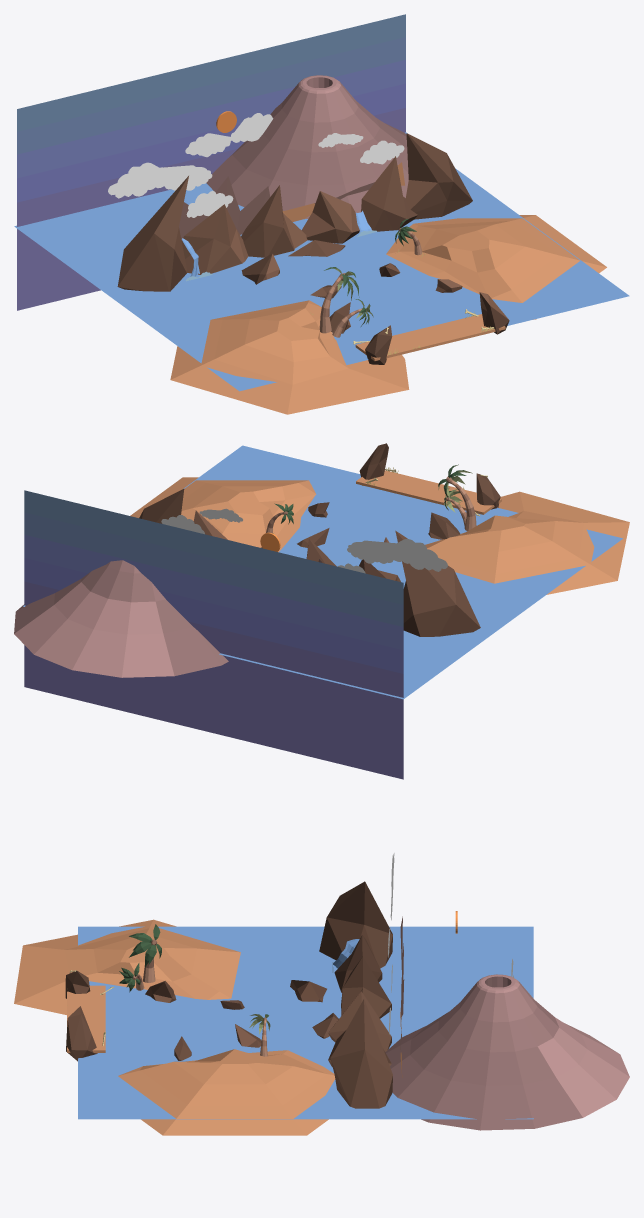
The picture shows the model from 3 angles, top to bottom: view 1: azimuth 30°, elevation 25°; view 2: azimuth 150°, elevation 25°; view 3: azimuth 270°, elevation 25°; orthographic projection. The views are drawn at different scales.
Parts seen in each view (by area): view 1: sky, base, land, mountains, volcano, clouds, front_area, mountains2D, palms, background_rocks, barrier_rock, barrier_rock_2; view 2: sky, base, land, volcano, mountains, clouds, front_area, palms, background_rocks, barrier_rock, barrier_rock_2; view 3: base, land, volcano, mountains, palms, front_area, background_rocks, barrier_rock.
Part boxes in pixels (x1=…): sky: x1=17, y1=14, x2=405, y2=310; base: x1=14, y1=132, x2=629, y2=391; land: x1=170, y1=215, x2=606, y2=414; mountains: x1=117, y1=133, x2=472, y2=291; volcano: x1=206, y1=75, x2=408, y2=219; clouds: x1=108, y1=113, x2=404, y2=281; front_area: x1=355, y1=314, x2=505, y2=360; mountains2D: x1=179, y1=162, x2=404, y2=240; palms: x1=319, y1=218, x2=422, y2=337; background_rocks: x1=310, y1=263, x2=462, y2=333; barrier_rock: x1=479, y1=292, x2=509, y2=334; barrier_rock_2: x1=365, y1=325, x2=392, y2=364; sky: x1=24, y1=490, x2=403, y2=779; base: x1=23, y1=445, x2=622, y2=699; land: x1=130, y1=477, x2=629, y2=594; volcano: x1=14, y1=560, x2=228, y2=677; mountains: x1=139, y1=489, x2=480, y2=636; clouds: x1=161, y1=508, x2=447, y2=573; front_area: x1=356, y1=470, x2=501, y2=514; palms: x1=266, y1=464, x2=476, y2=533; background_rocks: x1=297, y1=502, x2=460, y2=547; barrier_rock: x1=359, y1=443, x2=388, y2=479; barrier_rock_2: x1=476, y1=473, x2=500, y2=509; base: x1=78, y1=926, x2=533, y2=1119; land: x1=14, y1=919, x2=335, y2=1135; volcano: x1=385, y1=974, x2=629, y2=1130; mountains: x1=290, y1=881, x2=392, y2=1108; palms: x1=119, y1=924, x2=270, y2=1056; front_area: x1=67, y1=985, x2=105, y2=1052; background_rocks: x1=145, y1=981, x2=261, y2=1060; barrier_rock: x1=66, y1=1006, x2=97, y2=1061.
Bounding box in the file's own units: 675 × 295 × 807.
